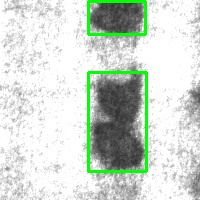patches: (88, 72, 146, 171), (88, 1, 145, 34)
